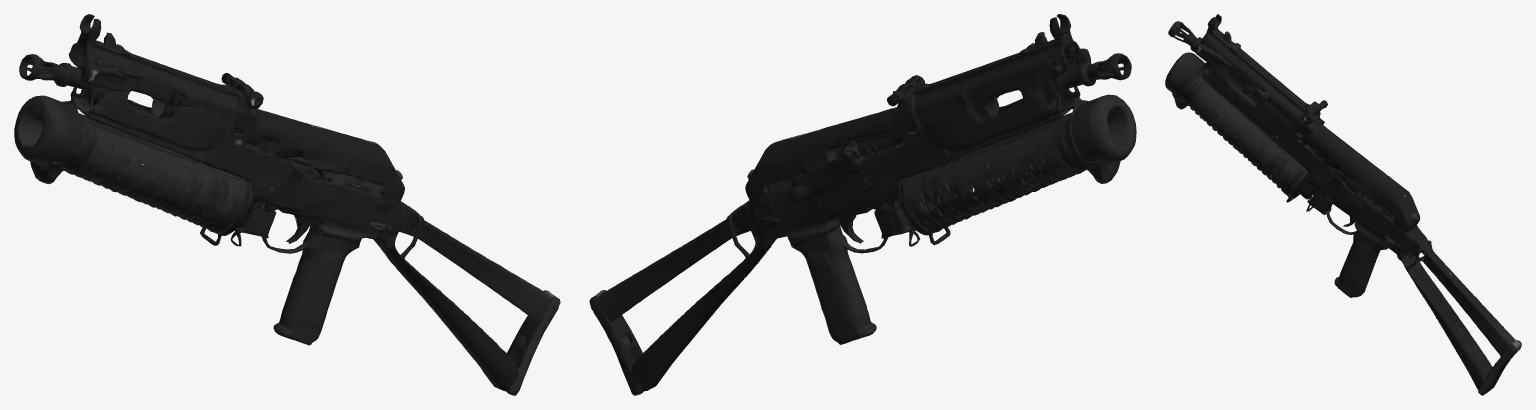
Rendered from smg.glb.
3 renders of one model, left to right at view 1: azimuth 30°, elevation 25°; view 2: azimuth 150°, elevation 25°; view 3: azimuth 330°, elevation 25°, orthographic. The views are drawn at different scales.
Parts seen in each view (by area): view 1: Node; view 2: Node; view 3: Node.
Boxes of the visible parts, x1,y1,x2,y2 form: Node: (14, 14, 560, 395); Node: (589, 14, 1136, 395); Node: (1165, 14, 1521, 395).
Size of the model in its own units: 100 by 85.41 by 12.67.
Materials: 5 (4 with a texture image).
